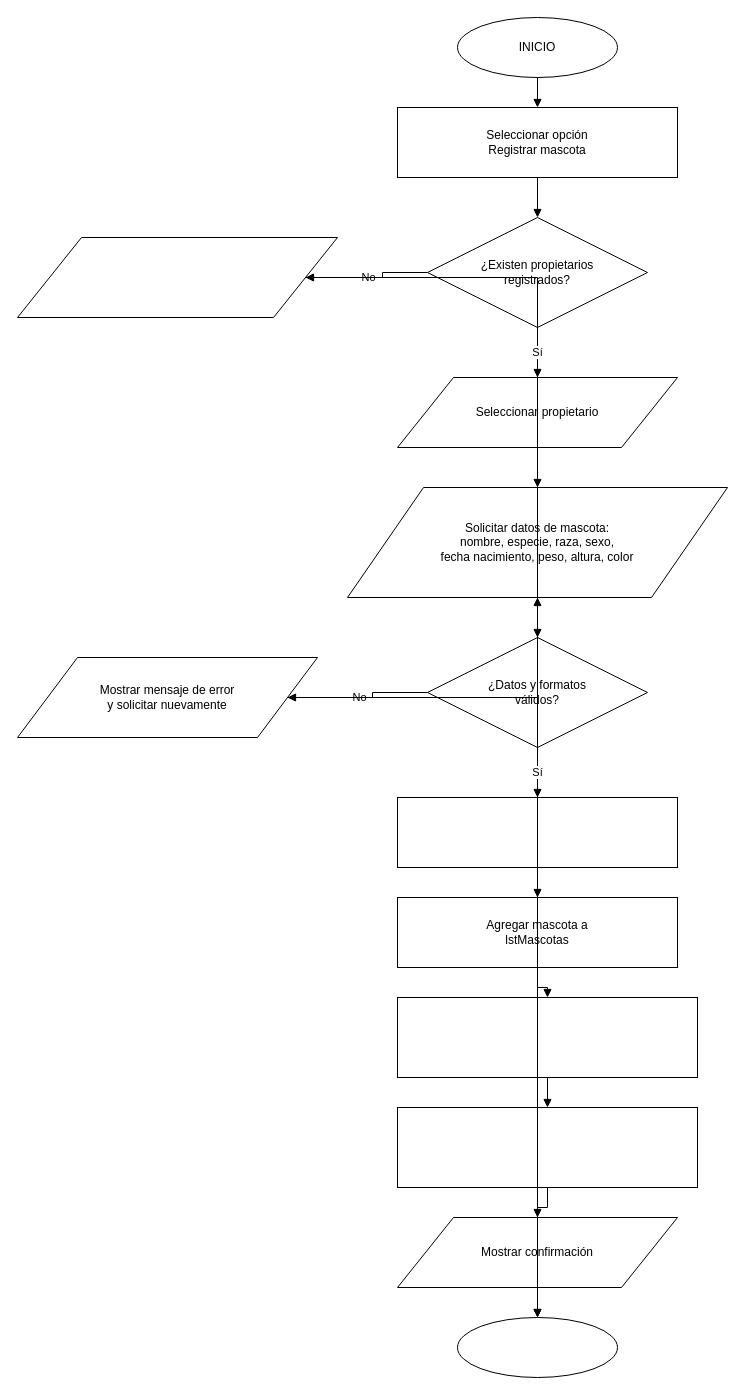
The diagram is 745 pixels wide and 1395 high, and some of its shapes have lost their labels. Each missing label, with the box of its shape:
Asociar mascota al propietario registrarMascota(): (396, 996, 698, 1078)
Crear HistorialClinico y asociarlo a la mascota: (396, 1106, 698, 1188)
Crear objeto Mascota: (396, 796, 678, 868)
FIN: (456, 1316, 618, 1378)
Mostrar mensaje: Primero debe registrar un propietario: (16, 236, 338, 318)
